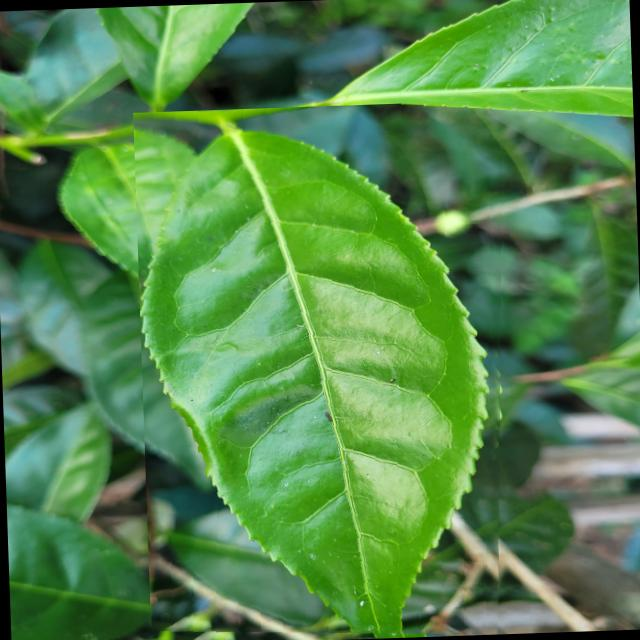Category D(7+ days, Not for Tea): (133, 99, 521, 640)
